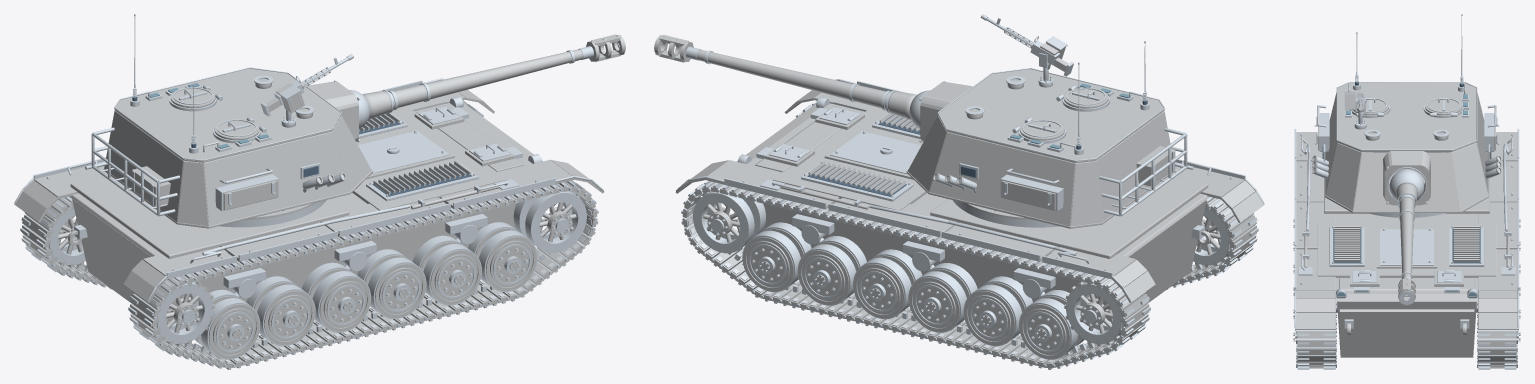
Rendered from ferdinand_vehicle.glb.
3 views of the same model, side by side, from view 1: azimuth 30°, elevation 25°; view 2: azimuth 150°, elevation 25°; view 3: azimuth 270°, elevation 25° (orthographic). The views are drawn at different scales.
Parts seen in each view (by area): view 1: TRACKS_L, ENGINE_DECK, FENDERS_AND_TOOLS, TURRET_ROOF, HULL_LOWER, TURRET_SIDE_L, HULL_TURRET_DECK, GUN_BARREL, ROAD_WHEEL_L_04_MESH, ROAD_WHEEL_L_02_MESH, ROAD_WHEEL_L_03_MESH, FRONT_IDLER_L_MESH (+25 smaller); view 2: TRACKS_R, ENGINE_DECK, TURRET_ROOF, FENDERS_AND_TOOLS, HULL_LOWER, TURRET_SIDE_R, HULL_TURRET_DECK, GUN_BARREL, ROAD_WHEEL_R_04_MESH, ROAD_WHEEL_R_02_MESH, ROAD_WHEEL_R_05_MESH, ROAD_WHEEL_R_01_MESH (+25 smaller); view 3: ENGINE_DECK, FENDERS_AND_TOOLS, TURRET_ROOF, HULL_LOWER, TURRET_FRONT, HULL_SPONSONS, TRACKS_L, TRACKS_R, TURRET_CHEEK_R, TURRET_CHEEK_L, FENDER_FRONT_L, FENDER_FRONT_R (+16 smaller).
Boxes of the visible parts, x1=… form: TRACKS_L: x1=128, y1=180, x2=598, y2=369; ENGINE_DECK: x1=352, y1=105, x2=522, y2=210; FENDERS_AND_TOOLS: x1=33, y1=80, x2=555, y2=278; TURRET_ROOF: x1=114, y1=68, x2=341, y2=162; HULL_LOWER: x1=72, y1=199, x2=516, y2=321; TURRET_SIDE_L: x1=203, y1=131, x2=349, y2=226; HULL_TURRET_DECK: x1=70, y1=174, x2=349, y2=258; GUN_BARREL: x1=388, y1=34, x2=625, y2=110; ROAD_WHEEL_L_04_MESH: x1=412, y1=235, x2=481, y2=305; ROAD_WHEEL_L_02_MESH: x1=302, y1=262, x2=371, y2=332; ROAD_WHEEL_L_03_MESH: x1=357, y1=249, x2=426, y2=318; FRONT_IDLER_L_MESH: x1=513, y1=191, x2=586, y2=252; TRACKS_R: x1=681, y1=180, x2=1150, y2=369; ENGINE_DECK: x1=756, y1=106, x2=926, y2=210; TURRET_ROOF: x1=938, y1=69, x2=1164, y2=162; FENDERS_AND_TOOLS: x1=724, y1=81, x2=1245, y2=279; HULL_LOWER: x1=763, y1=199, x2=1206, y2=321; TURRET_SIDE_R: x1=929, y1=132, x2=1075, y2=226; HULL_TURRET_DECK: x1=930, y1=175, x2=1208, y2=258; GUN_BARREL: x1=654, y1=35, x2=891, y2=110; ROAD_WHEEL_R_04_MESH: x1=797, y1=236, x2=866, y2=305; ROAD_WHEEL_R_02_MESH: x1=908, y1=263, x2=977, y2=332; ROAD_WHEEL_R_05_MESH: x1=742, y1=222, x2=811, y2=292; ROAD_WHEEL_R_01_MESH: x1=963, y1=276, x2=1032, y2=346; ENGINE_DECK: x1=1317, y1=223, x2=1496, y2=293; FENDERS_AND_TOOLS: x1=1294, y1=129, x2=1519, y2=335; TURRET_ROOF: x1=1337, y1=82, x2=1476, y2=151; HULL_LOWER: x1=1337, y1=301, x2=1476, y2=357; TURRET_FRONT: x1=1353, y1=152, x2=1460, y2=210; HULL_SPONSONS: x1=1335, y1=169, x2=1478, y2=301; TRACKS_L: x1=1296, y1=301, x2=1336, y2=369; TRACKS_R: x1=1477, y1=301, x2=1517, y2=369; TURRET_CHEEK_R: x1=1451, y1=142, x2=1488, y2=210; TURRET_CHEEK_L: x1=1325, y1=142, x2=1362, y2=210; FENDER_FRONT_L: x1=1294, y1=289, x2=1335, y2=329; FENDER_FRONT_R: x1=1478, y1=289, x2=1519, y2=329.
Bounding box in the file's own units: 8.68 × 4.35 × 3.77.
